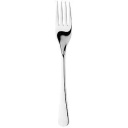fork: (49, 1, 84, 128)
